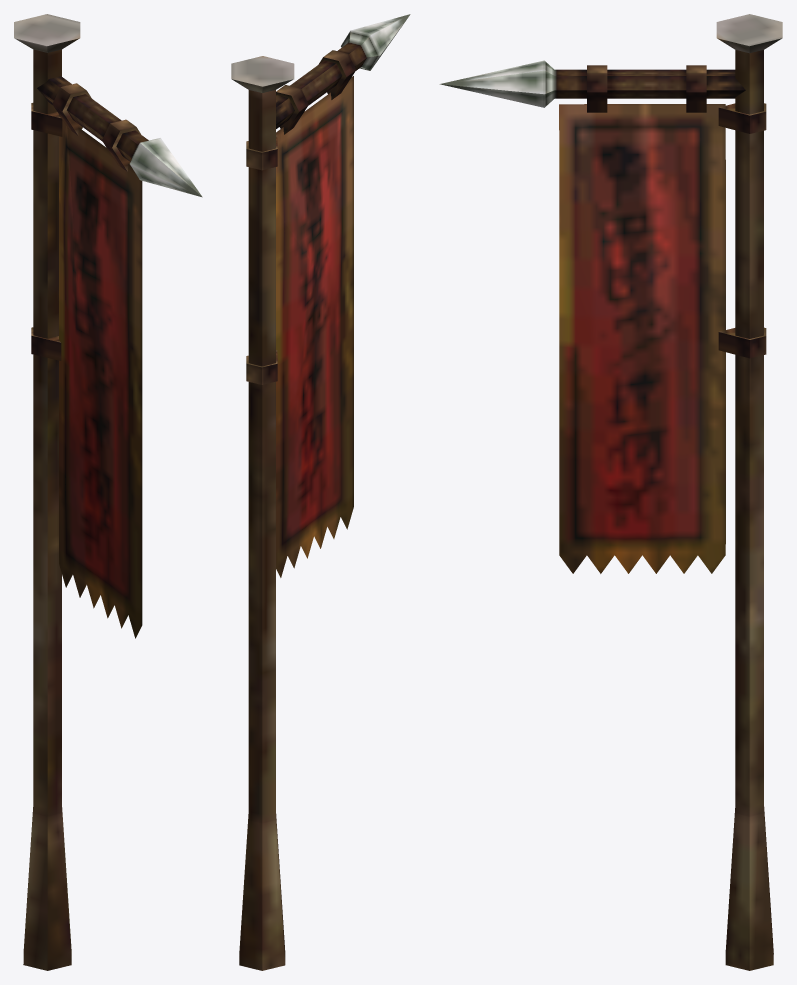
The model's file is general_obj_flag.glb.
3 views of the same model, side by side, from view 1: azimuth 30°, elevation 25°; view 2: azimuth 150°, elevation 25°; view 3: azimuth 270°, elevation 25° (orthographic). The views are drawn at different scales.
Visible parts, largest first — view 1: Object03; view 2: Object03; view 3: Object03.
Boxes of the visible parts, left/top/right/bottom form: Object03: left=14, top=14, right=202, bottom=970; Object03: left=231, top=14, right=410, bottom=970; Object03: left=439, top=14, right=782, bottom=970.
Size of the model in its own units: 0.27 by 3.63 by 1.22.
Materials: 1 (1 with a texture image).
